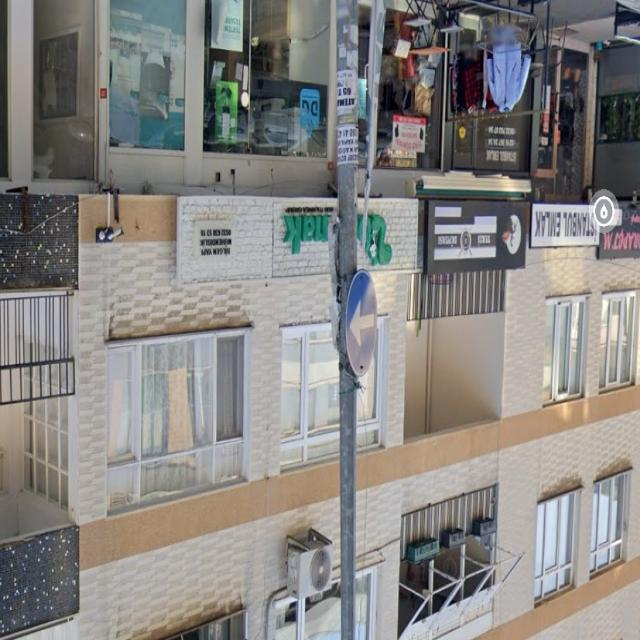Turn Left: (342, 269, 382, 381)
